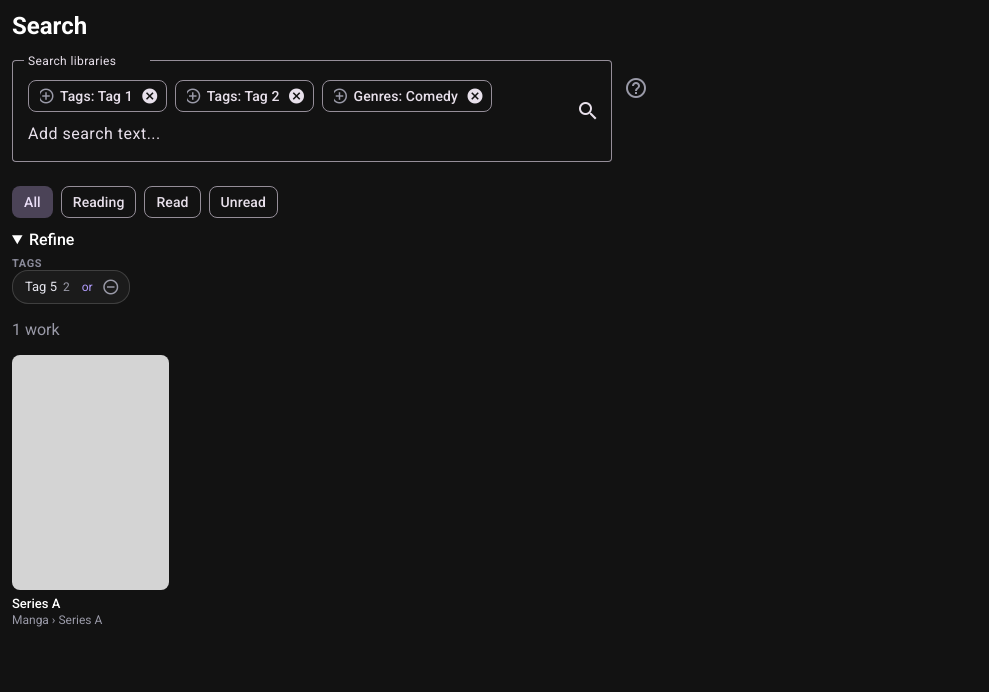
Test: SearchComponent tag filters and work cards (1.45.0) › 1.50.0: "or" with two or more included tags asks which one to join (not the last), and Cancel / Escape close the menu
Click the button with test id "refine-or" at (87, 287), box [76,271,99,303]
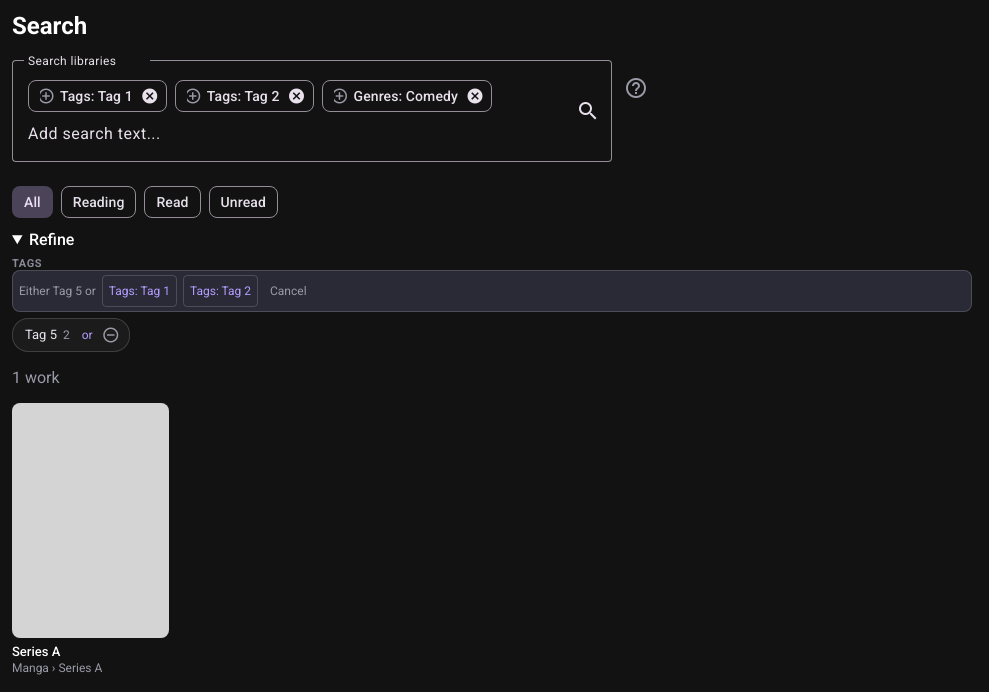
Check: the element with test id "refine-or-menu" is shown, box [12,270,972,312]
Click the button with test id "refine-or-cancel" at (288, 291), box [264,275,312,307]
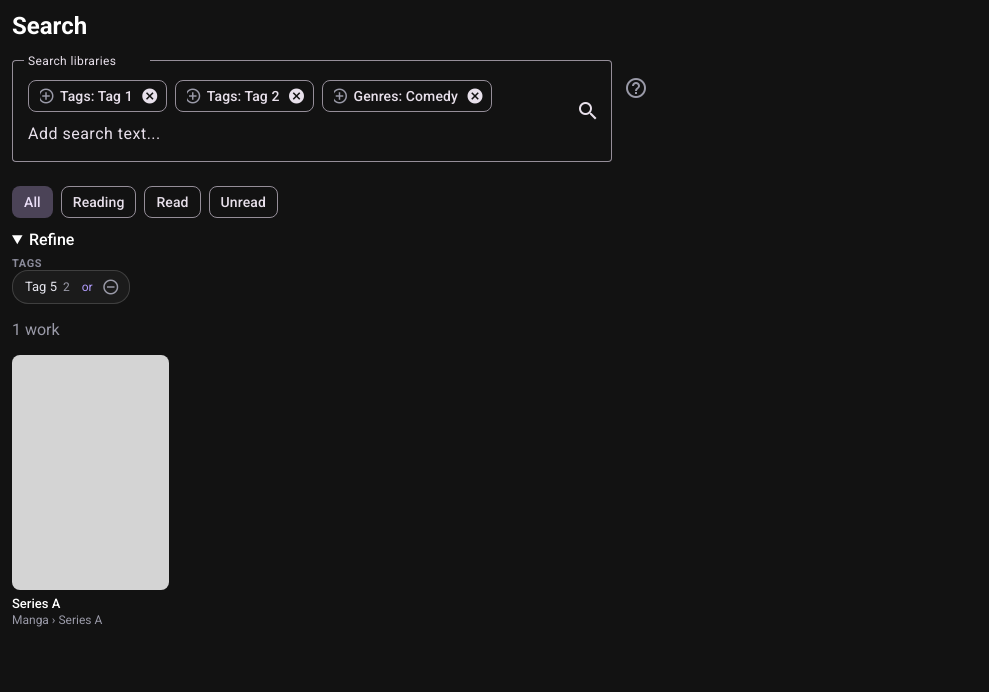
Check: the element with test id "refine-or-menu" is gone
Click the button with test id "refine-or" at (87, 287), box [76,271,99,303]
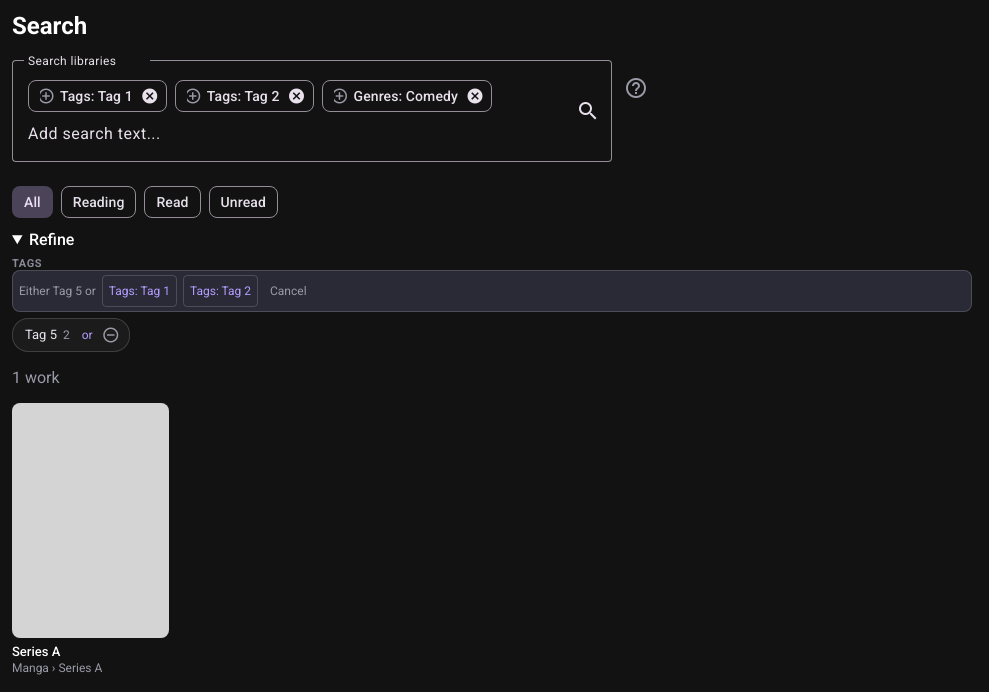
Press Escape in the element with test id "refine-or-menu", box [12,270,972,312]
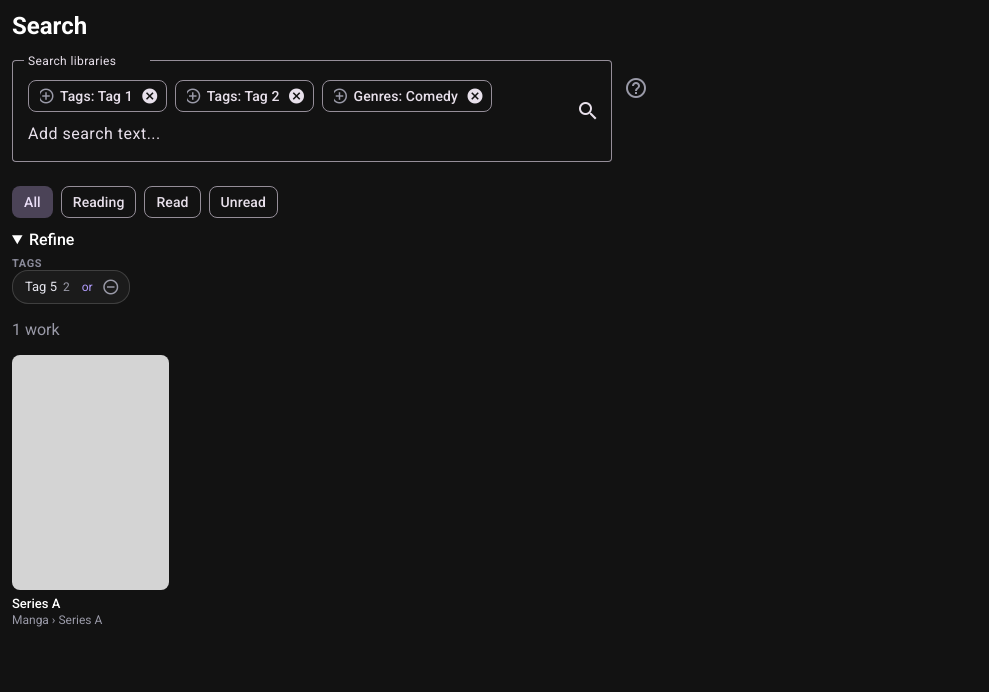
Check: the element with test id "refine-or-menu" is gone
Click the button with test id "refine-or" at (87, 287), box [76,271,99,303]
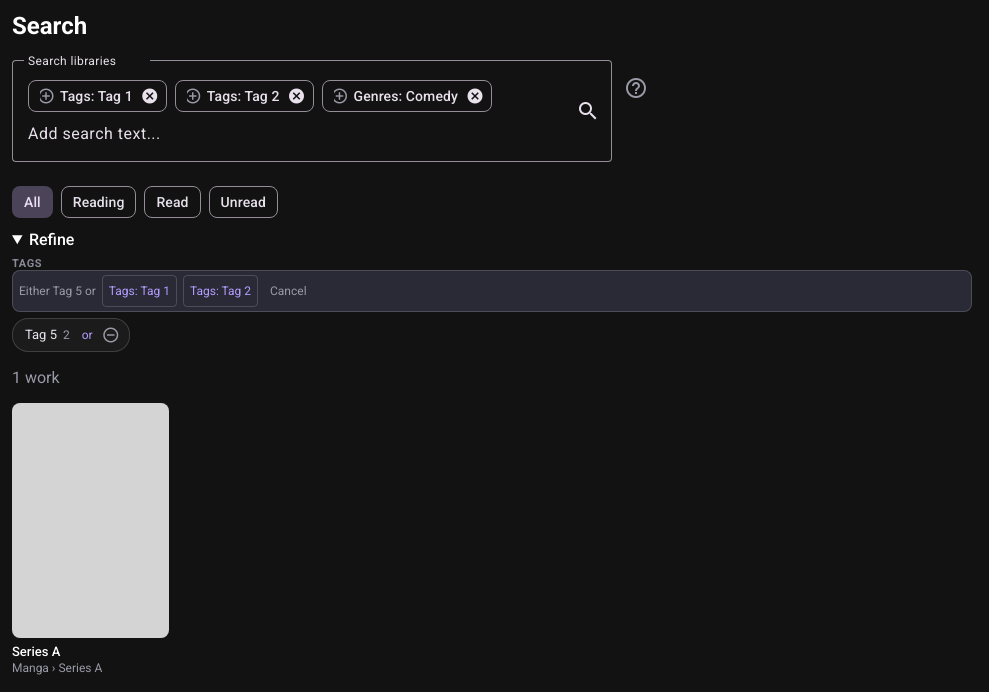
Click the button with test id "refine-or-target" showing "Tags: Tag 1" at (139, 291), box [102,275,177,307]
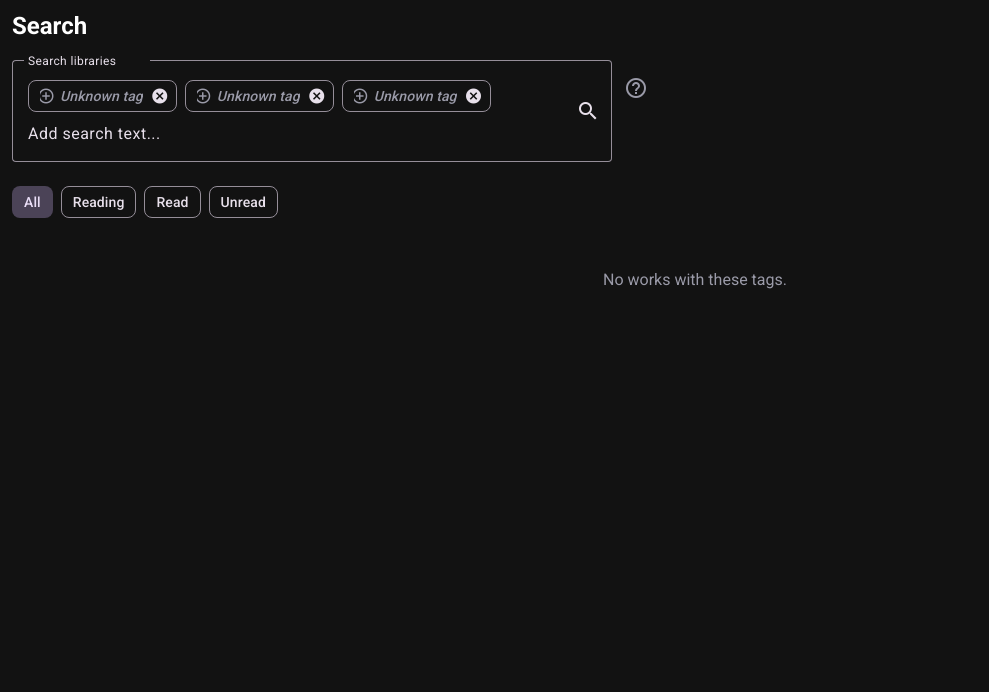
Check: the element with test id "refine-or-menu" is gone
